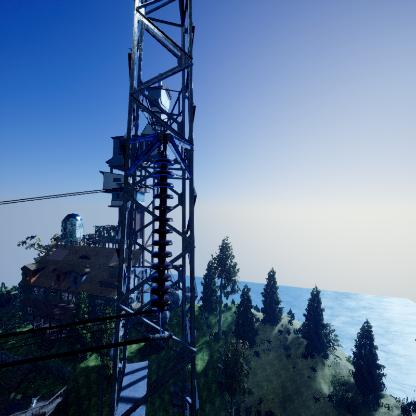insulator: (146, 155, 178, 311)
